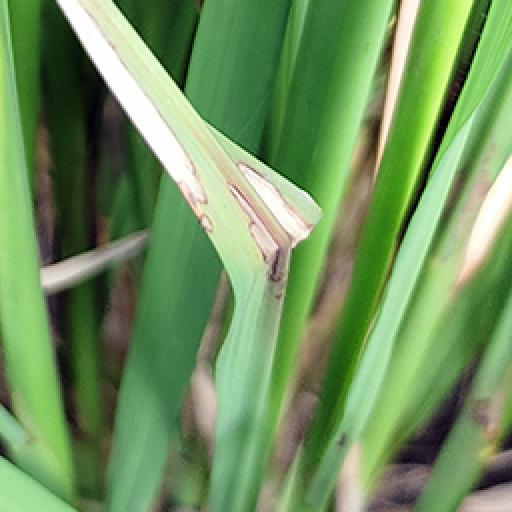Leaf Blast Disease: (66, 2, 322, 344)
